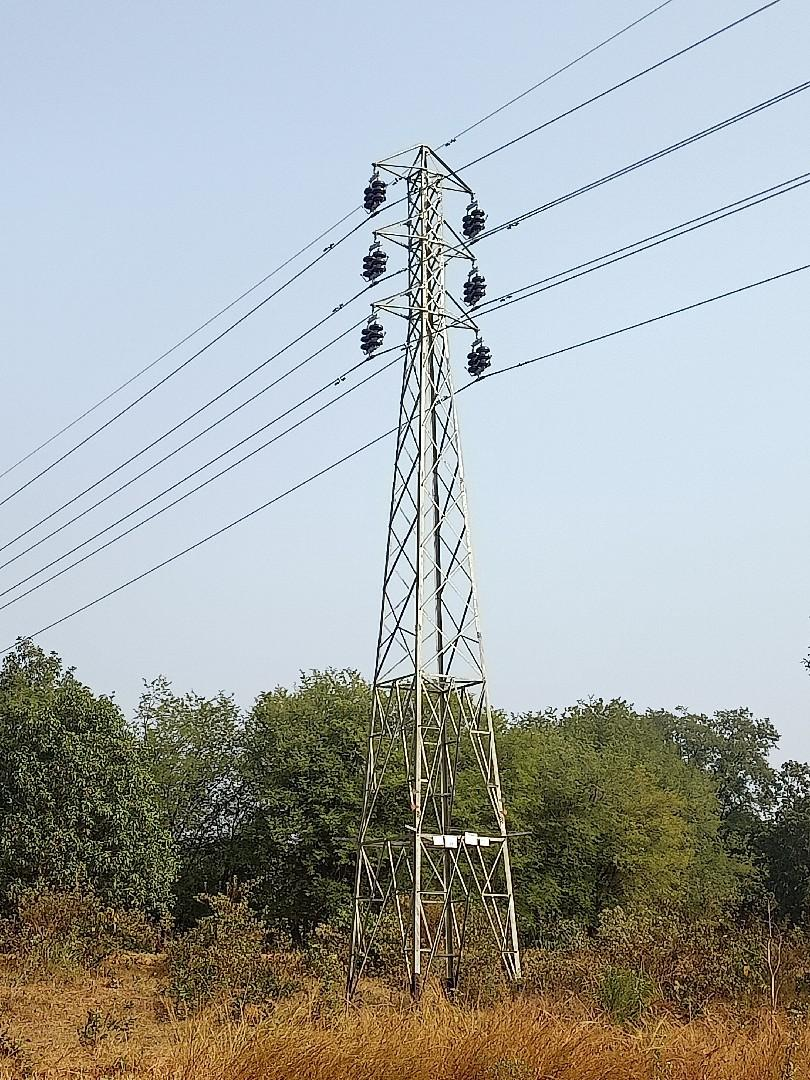GSM Antenna: (327, 137, 538, 970)
